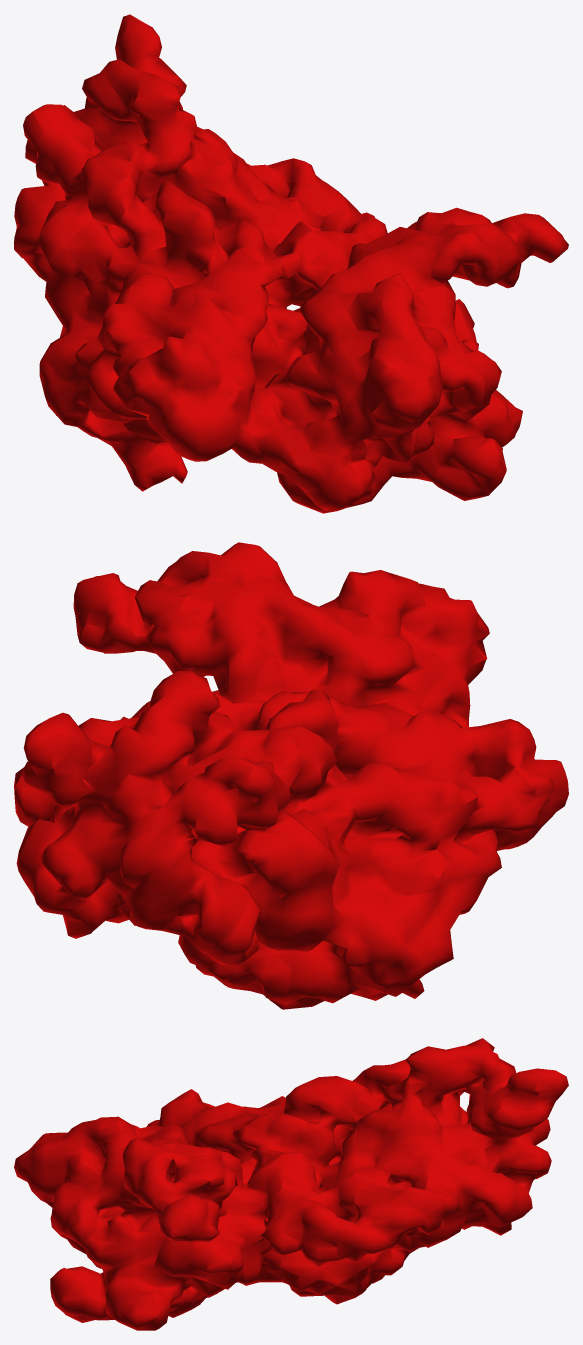
Rendered from CoarseMS_4kbt.fbx.
3 renders of one model, top to bottom at view 1: azimuth 30°, elevation 25°; view 2: azimuth 150°, elevation 25°; view 3: azimuth 270°, elevation 25°, orthographic. The views are drawn at different scales.
Parts seen in each view (by area): view 1: CoarseMS_4kbt_Mesh; view 2: CoarseMS_4kbt_Mesh; view 3: CoarseMS_4kbt_Mesh.
Part boxes in pixels (bbox=[...]): CoarseMS_4kbt_Mesh: bbox=[14, 14, 568, 513]; CoarseMS_4kbt_Mesh: bbox=[14, 542, 568, 1009]; CoarseMS_4kbt_Mesh: bbox=[14, 1038, 568, 1330].
Bounding box in the file's own units: 174 × 126 × 245.
